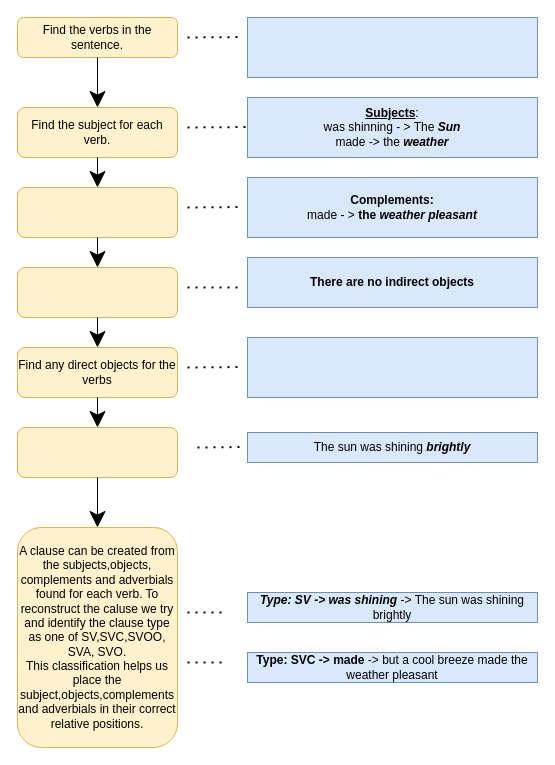
Image size: 555x765. Some labels were removed from this diagram. Each missing label, with the centre of its shape:
"Find any adverbials associated with the verbs" belongs at (97,452).
"Find any Complements for the verbs" belongs at (97,212).
"Find any indirect objects for the verbs" belongs at (97,292).
"The sun was shining brightly, but a cool breeze made the weather pleasant." belongs at (392,47).
"There are no direct objects" belongs at (392,367).
